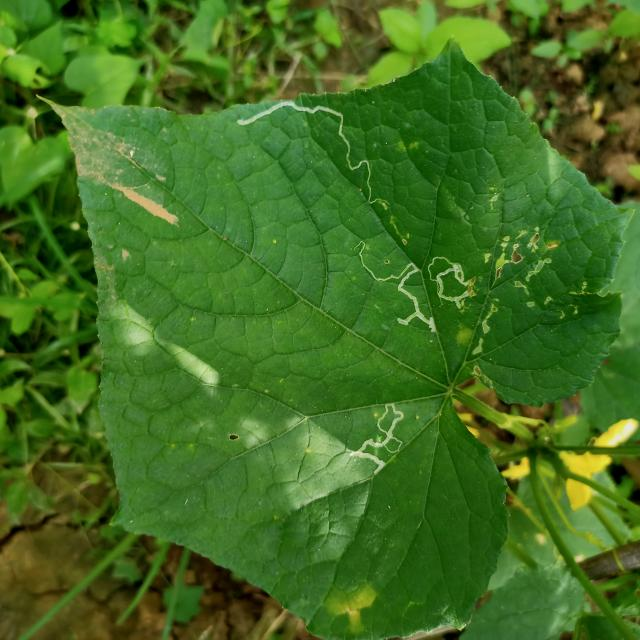disease_cucumber: (332, 584, 374, 637)
